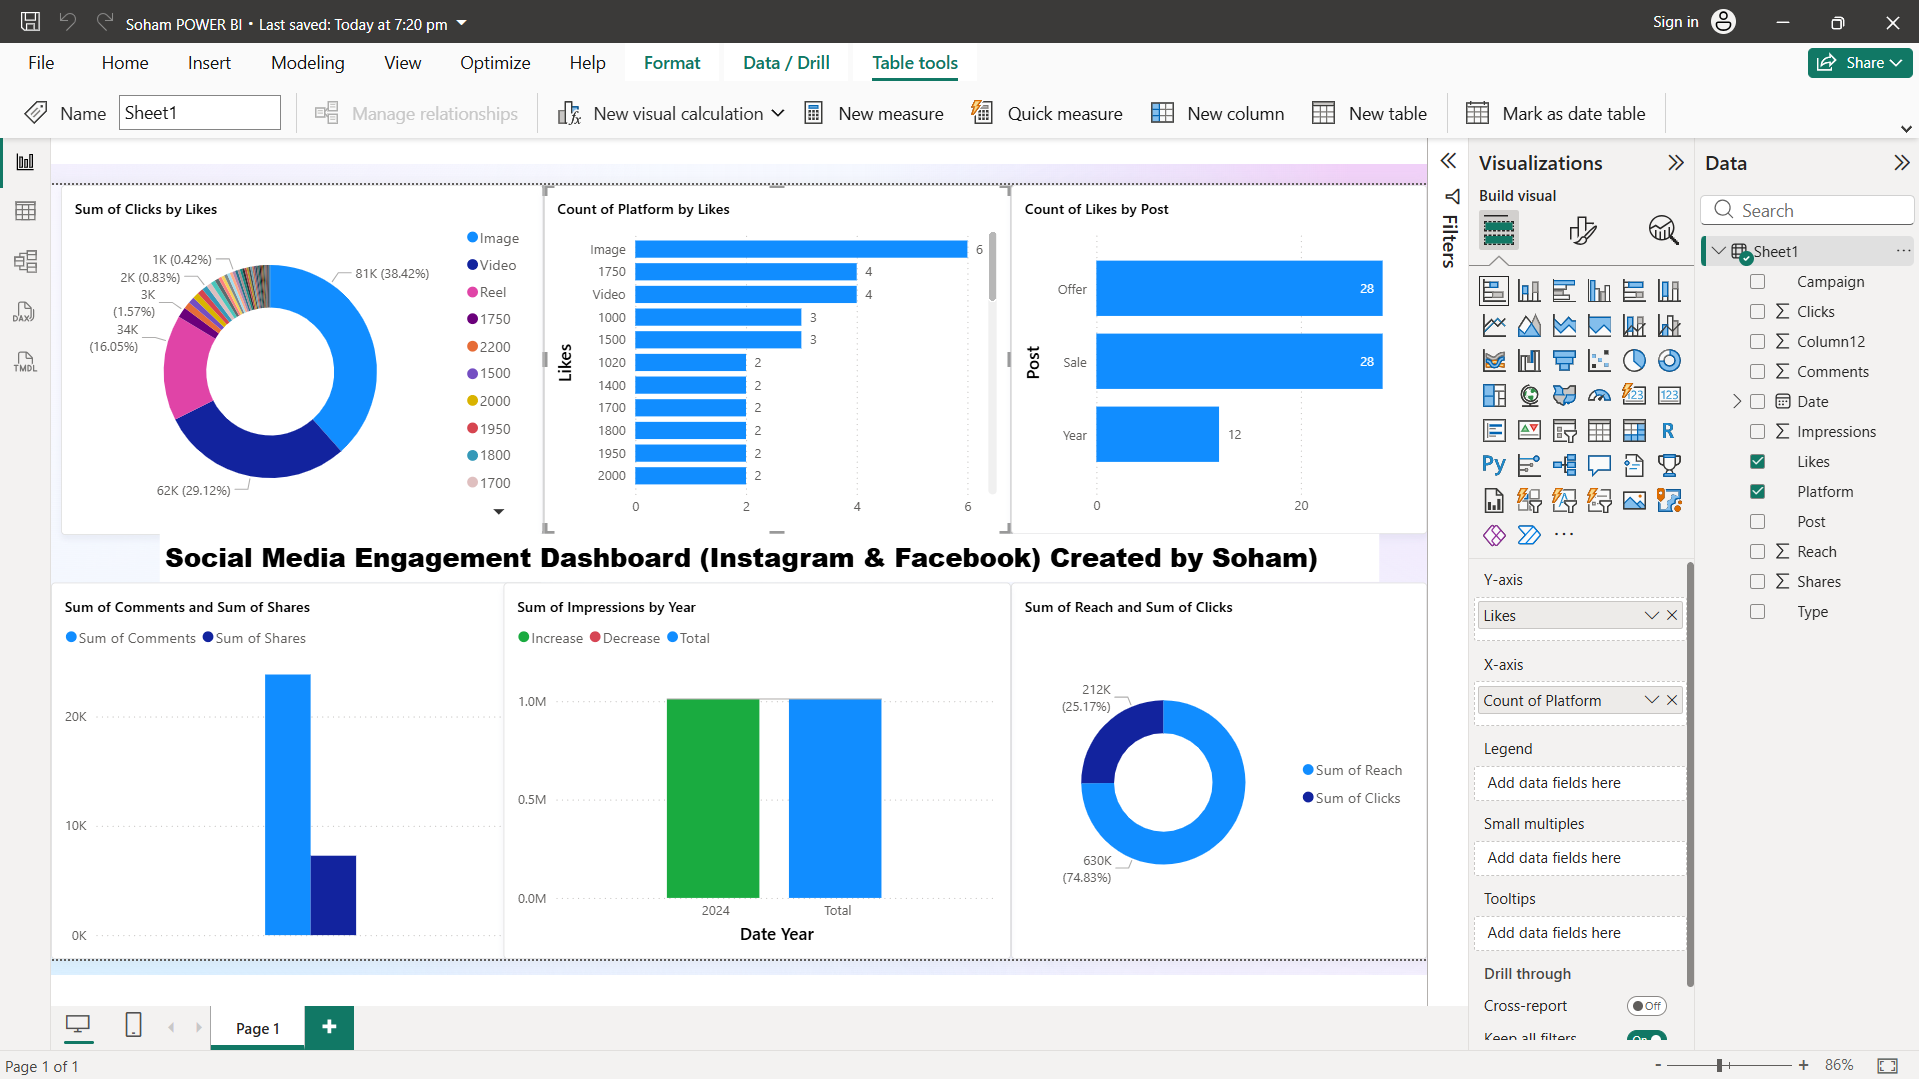

What the dashboard file says about the page in this screenshot:
{"tool":"powerbi","page":{"name":"Page 1","canvas":[1280,720],"ordinal":0},"visuals":[{"type":"donutChart","fields":{"Y":["Sum(Sheet1.Clicks)"],"Category":["Sheet1.Likes"]},"box":[9.6,0,448.7,325.2],"z":0},{"type":"lineClusteredColumnComboChart","fields":{"Y":["Sum(Sheet1.Comments)","Sum(Sheet1.Shares)"]},"box":[0,370.1,458.1,350.1],"z":1000},{"type":"barChart","fields":{"Category":["Sheet1.Likes"],"Y":["CountNonNull(Sheet1.Platform)"]},"box":[458.3,0,435,325.2],"z":2000},{"type":"clusteredBarChart","fields":{"Category":["Sheet1.Post"],"Y":["CountNonNull(Sheet1.Likes)"]},"box":[893.2,0,386.8,325],"z":3000},{"type":"donutChart","fields":{"Y":["Sum(Sheet1.Reach)","Sum(Sheet1.Clicks)"]},"box":[893.2,370.1,386.8,350.1],"z":4000},{"type":"waterfallChart","fields":{"Category":["Sheet1.Date.Variation.Date Hierarchy.Year","Sheet1.Date.Variation.Date Hierarchy.Quarter","Sheet1.Date.Variation.Date Hierarchy.Month","Sheet1.Date.Variation.Date Hierarchy.Day"],"Y":["Sum(Sheet1.Impressions)"]},"box":[421.4,370.1,471.8,350.1],"z":5000},{"type":"textbox","box":[100.6,325,1134.3,45.1],"z":6000}]}

Visuals, with their boxes on the page's 1280x720 design canvas (x1, y1, x2, y2). These are canvas units, not pixel positions in the 1919x1079 screenshot, which may show the page scaled, cropped or inside an application window:
donutChart - Sum(Sheet1.Clicks) x Sheet1.Likes: (left=10, top=0, right=458, bottom=325)
lineClusteredColumnComboChart - Sum(Sheet1.Comments) x Sum(Sheet1.Shares): (left=0, top=370, right=458, bottom=720)
barChart - Sheet1.Likes x CountNonNull(Sheet1.Platform): (left=458, top=0, right=893, bottom=325)
clusteredBarChart - Sheet1.Post x CountNonNull(Sheet1.Likes): (left=893, top=0, right=1280, bottom=325)
donutChart - Sum(Sheet1.Reach) x Sum(Sheet1.Clicks): (left=893, top=370, right=1280, bottom=720)
waterfallChart - Sheet1.Date.Variation.Date Hierarchy.Year x Sheet1.Date.Variation.Date Hierarchy.Quarter: (left=421, top=370, right=893, bottom=720)
textbox: (left=101, top=325, right=1235, bottom=370)
